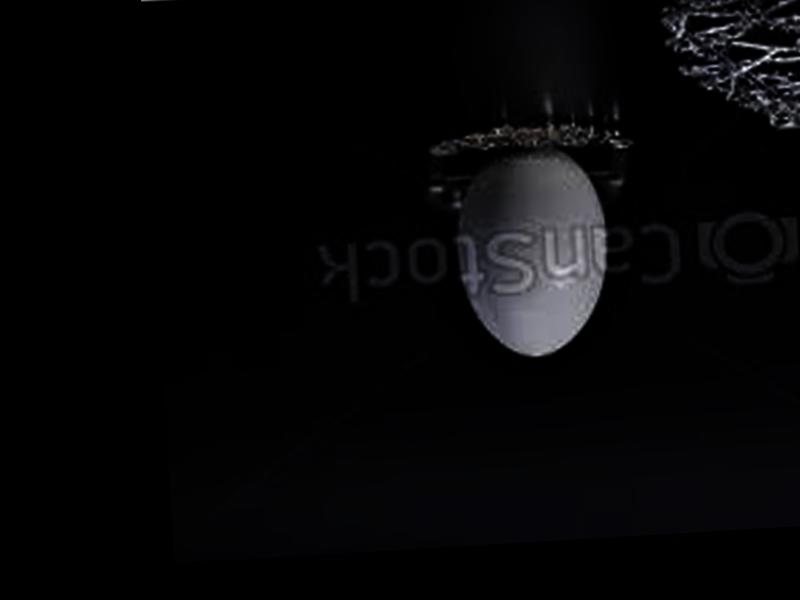Eggs: (451, 142, 615, 360)
